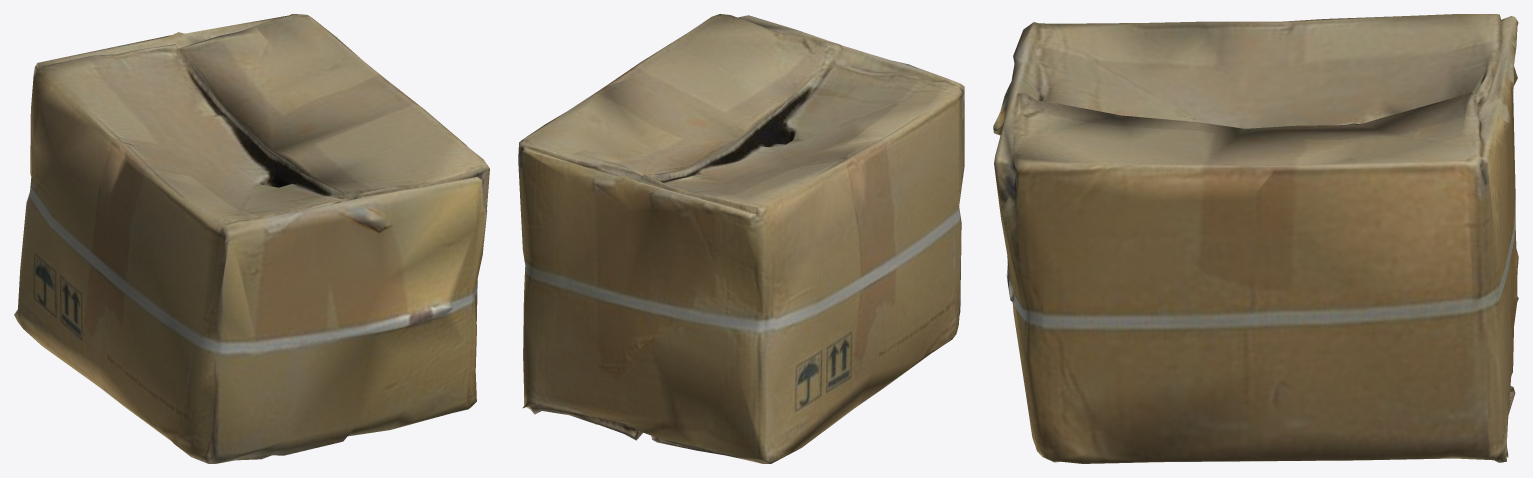
3 renders of one model, left to right at view 1: azimuth 30°, elevation 25°; view 2: azimuth 150°, elevation 25°; view 3: azimuth 270°, elevation 25°, orthographic. The views are drawn at different scales.
Parts seen in each view (by area): view 1: cardboard_box_01; view 2: cardboard_box_01; view 3: cardboard_box_01.
Part boxes in pixels (x1,y1,x2,y2): cardboard_box_01: (14, 14, 489, 463); cardboard_box_01: (518, 14, 964, 463); cardboard_box_01: (993, 14, 1518, 463).
Bounding box in the file's own units: 0.3868 × 0.3407 × 0.5159.
1 material, 1 textured.
